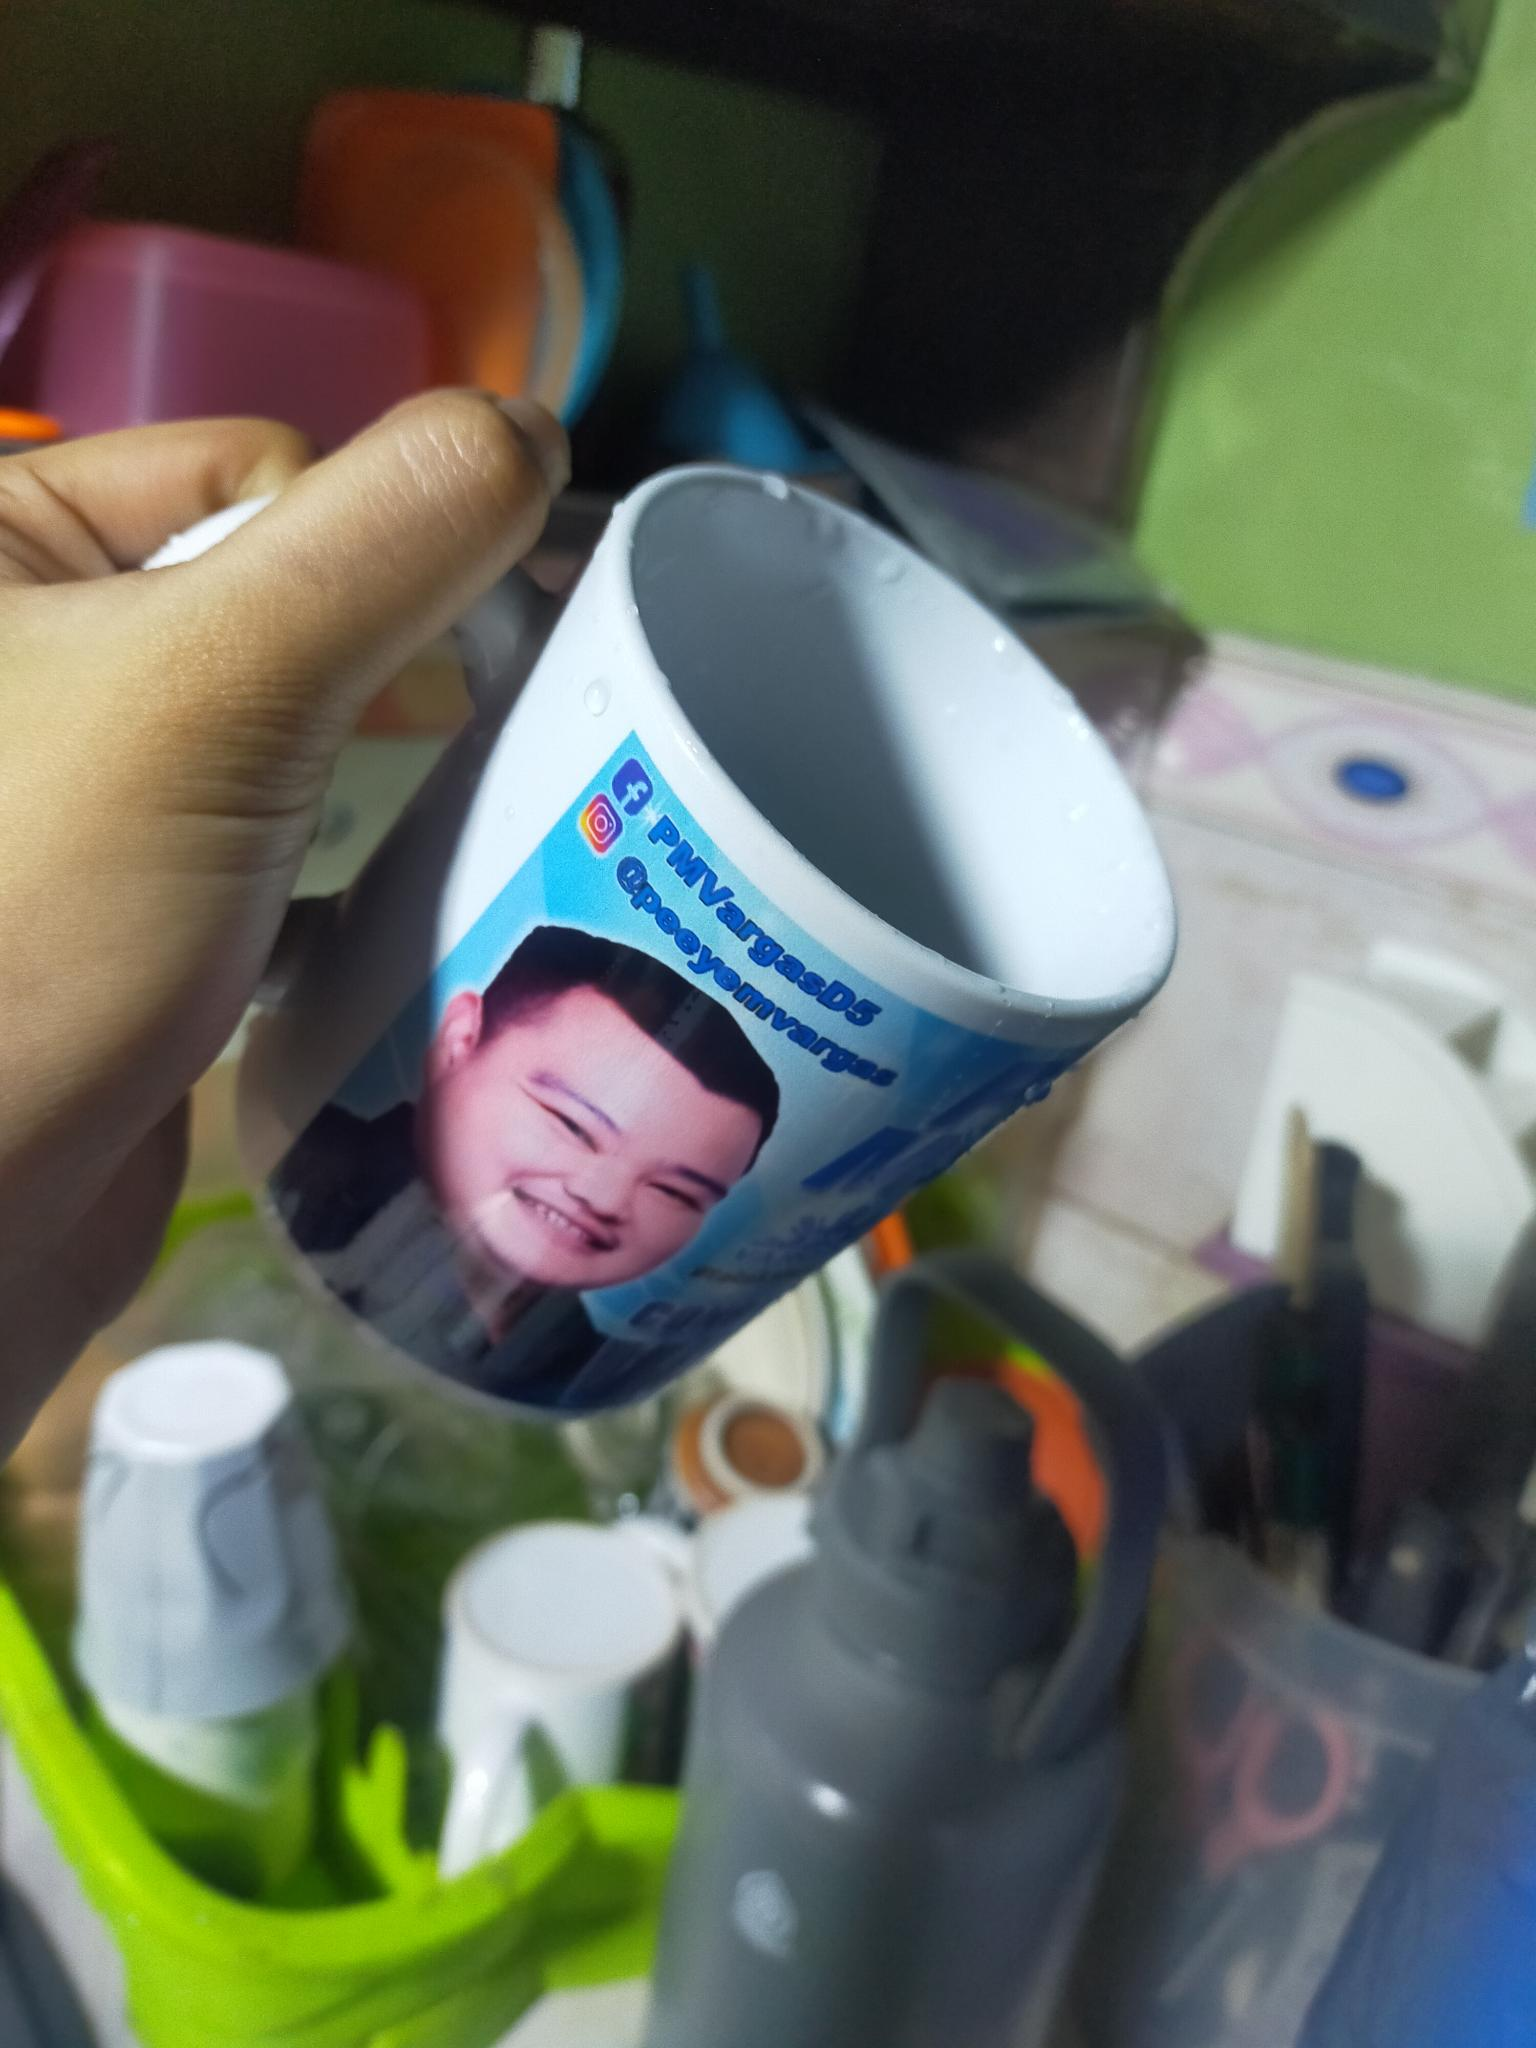Coffee Mug: (142, 456, 1173, 1417)
